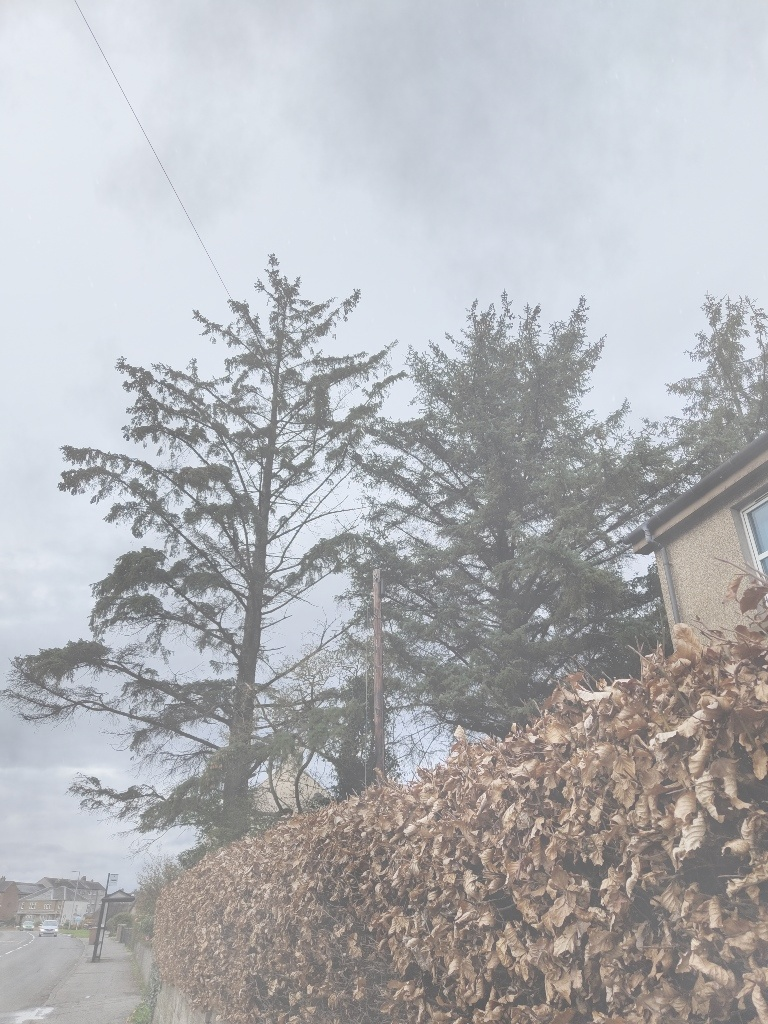Tree: (0, 248, 434, 840), (331, 287, 663, 742)
